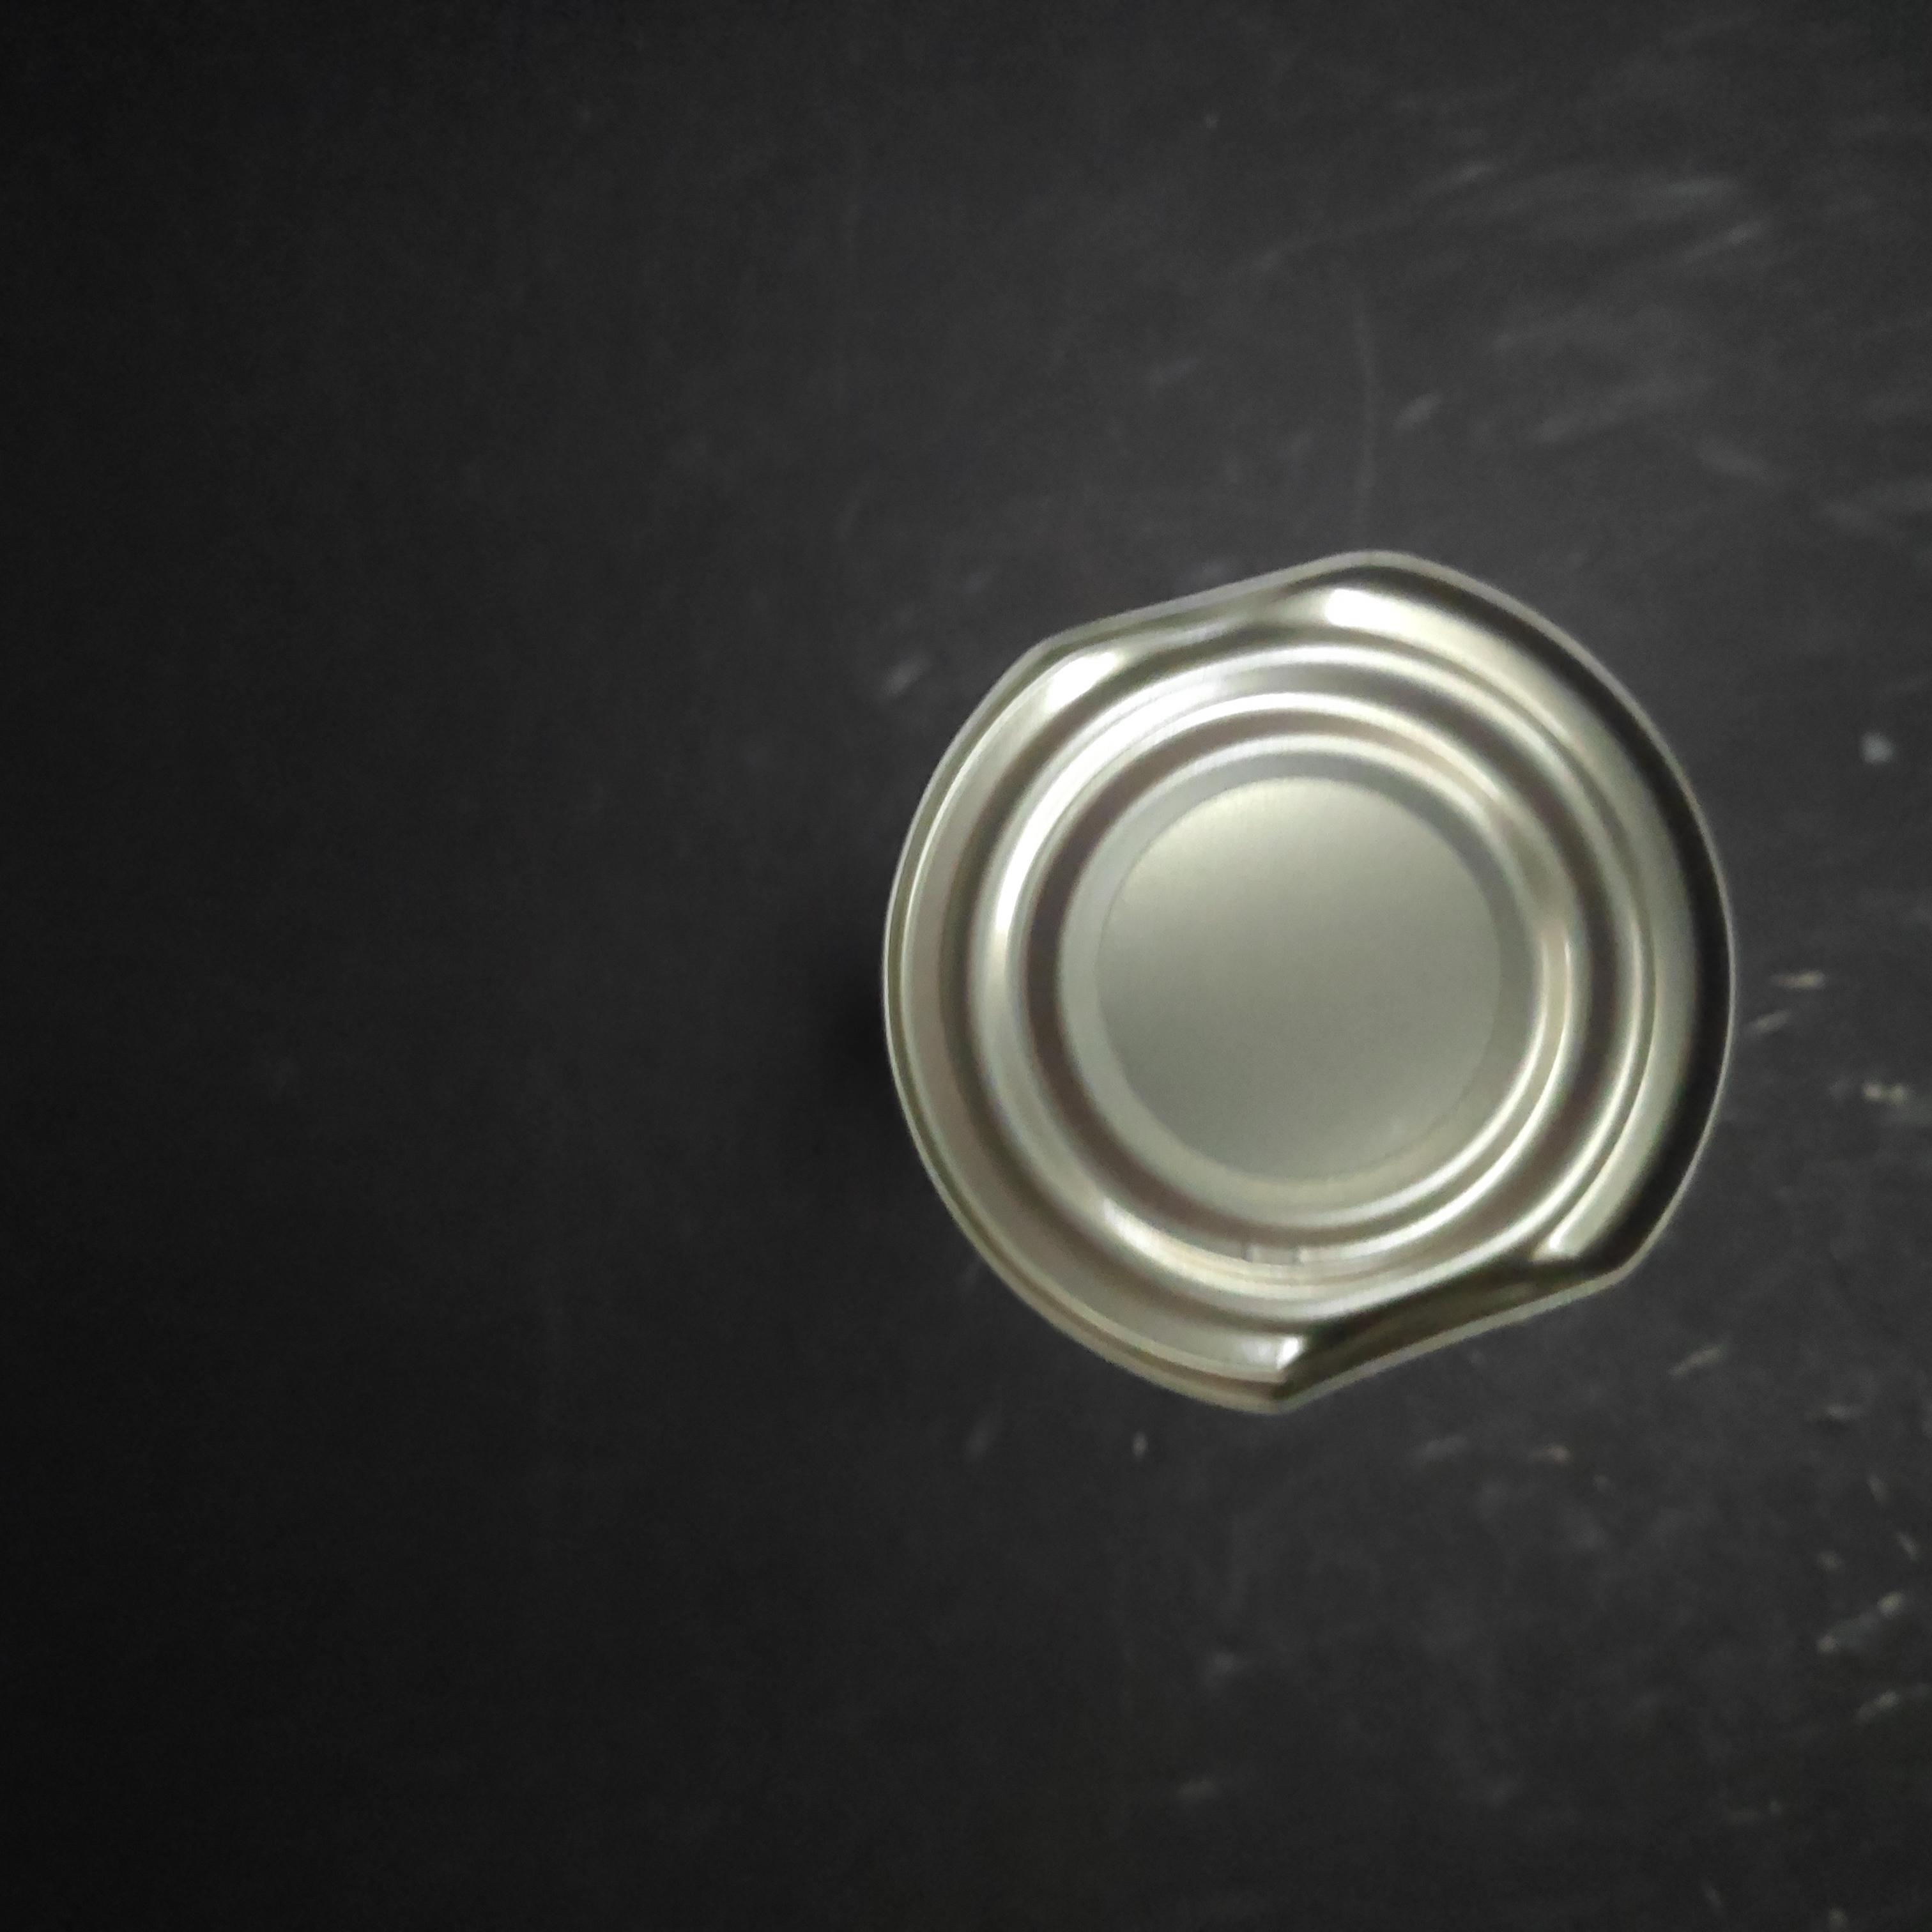Minor Defect: (874, 534, 1752, 1440)
